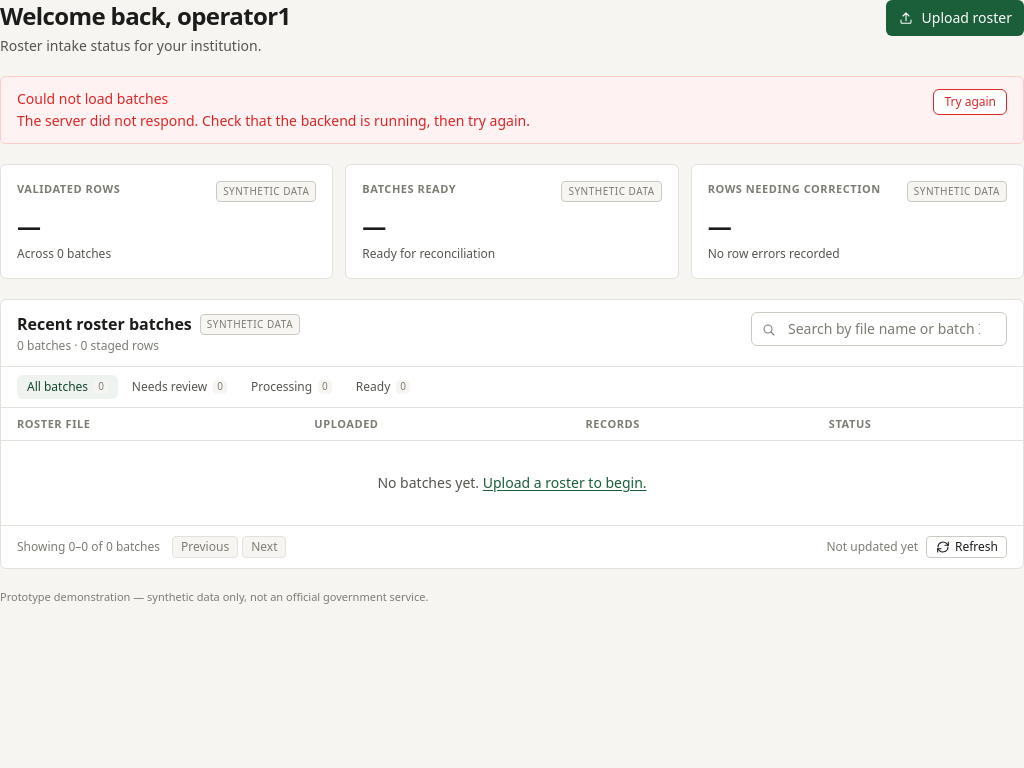
it: DashboardPage › reports a load failure without inventing numbers, and retries
Expected: the heading "Welcome back, operator1" is shown, [0,0,291,32]
Expected: the message shows "Could not load batches", [17,89,168,108]
Click the button "Try again".
click(970, 102)  # box [933,89,1007,115]
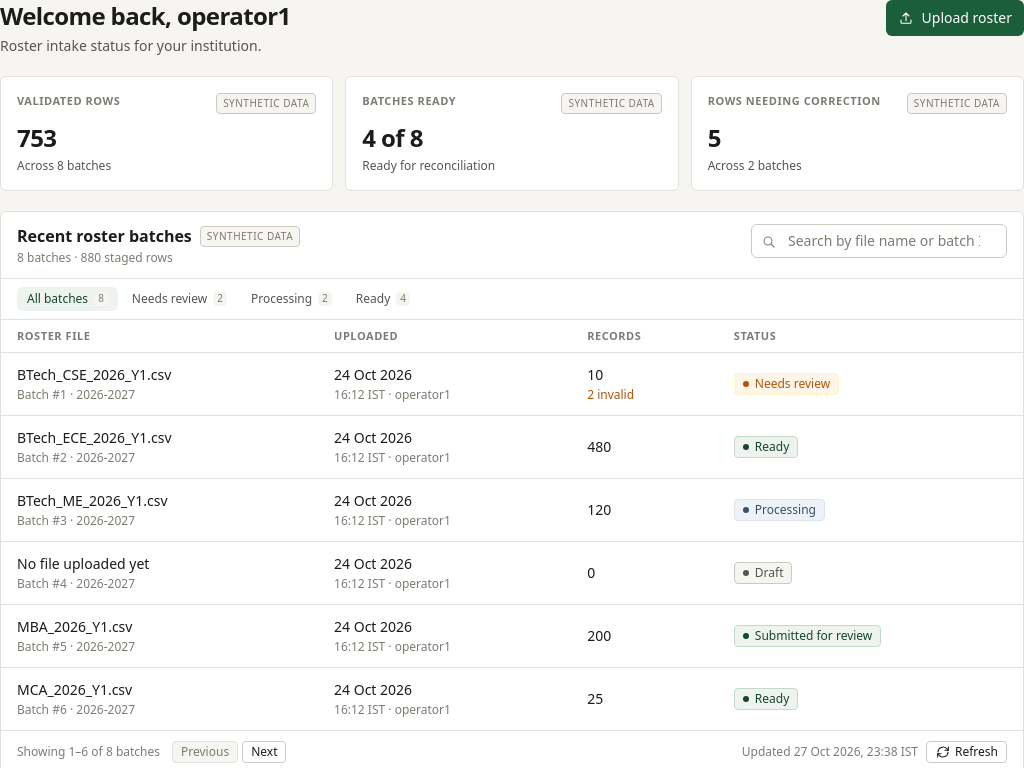
Expected: the text "753" is shown, [17,121,56,154]
Expected: the message is gone
